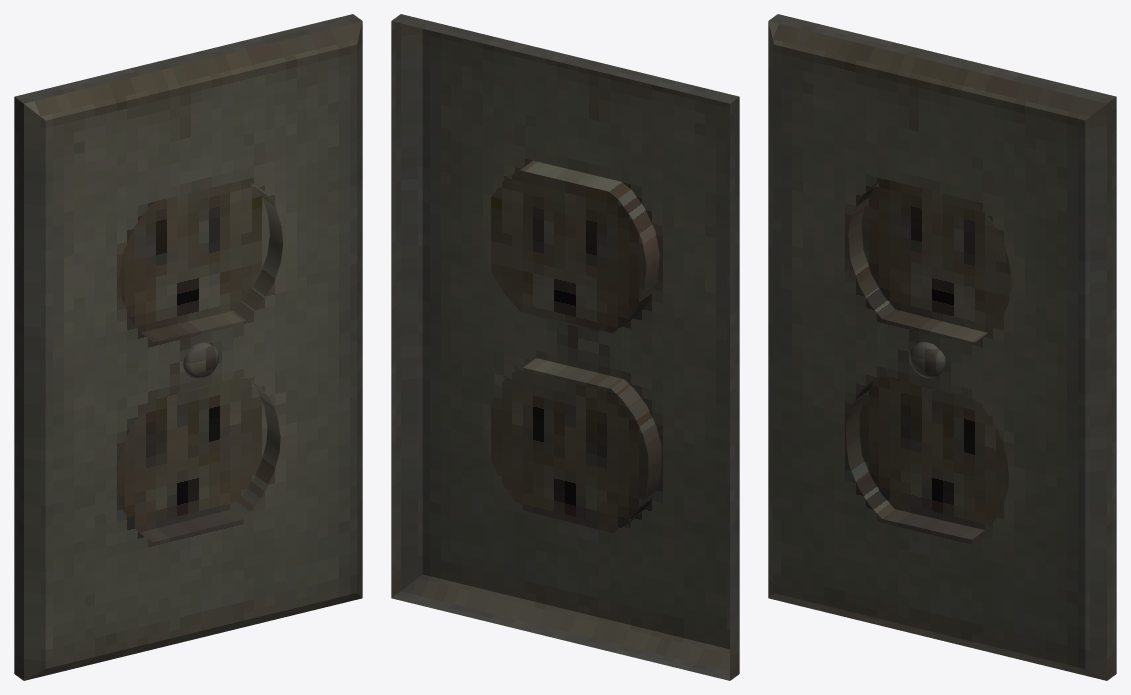
Rendered from electrical_outlet_1.obj.
3 views of the same model, side by side, from view 1: azimuth 30°, elevation 25°; view 2: azimuth 150°, elevation 25°; view 3: azimuth 330°, elevation 25° (orthographic).
Visible parts, largest first — view 1: electrical_outlet_1; view 2: electrical_outlet_1; view 3: electrical_outlet_1.
Part boxes in pixels (<box>): electrical_outlet_1: <box>14,14,362,680</box>; electrical_outlet_1: <box>391,14,739,680</box>; electrical_outlet_1: <box>768,14,1116,680</box>.
Size of the model in its own units: 0.1113 by 0.1812 by 0.0125.
